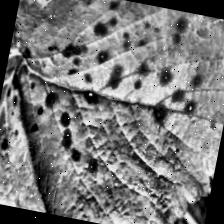Leaf Spot: (0, 0, 224, 224), (0, 64, 83, 215)
